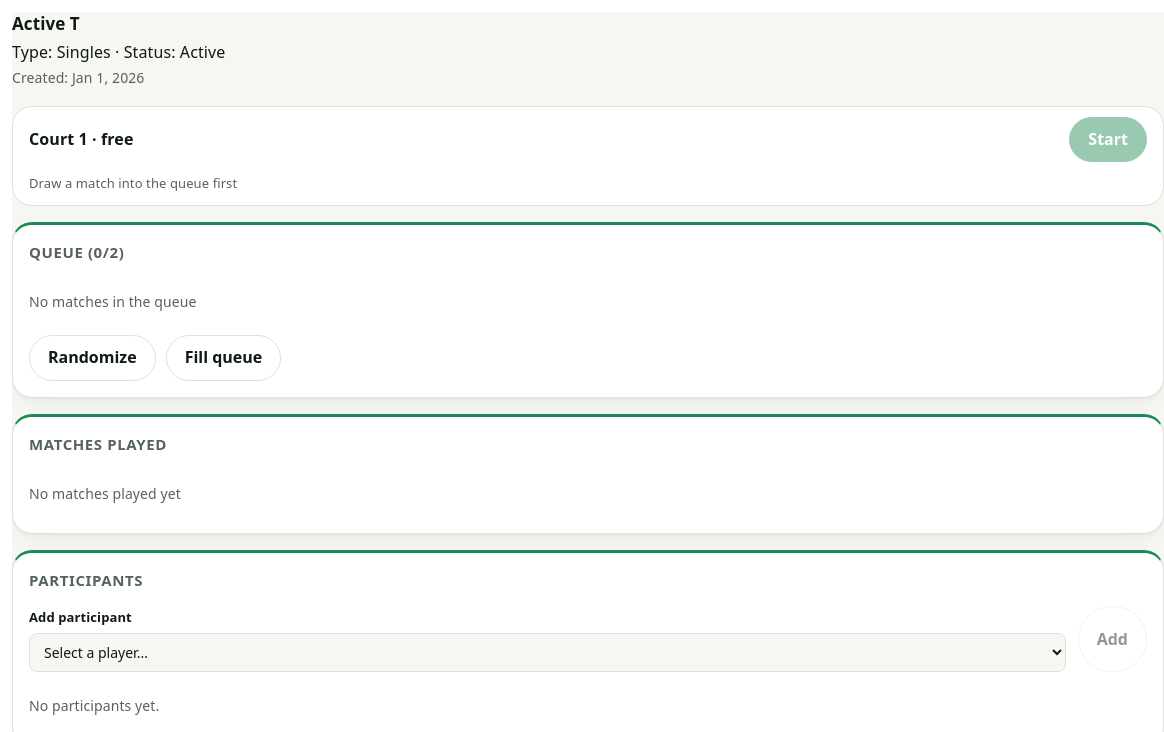
Test: TournamentDetail: Queue (Randomize / Fill queue / Remove) › shows the empty state and Randomize adds exactly one match to the queue without persisting a match
The width and height of the screenshot is (1164, 732).
expect the text "No matches in the queue" is shown: met, box [29,292,196,311]
expect the heading "Queue (0/2)" is shown: met, box [29,242,124,262]
Click the button "Randomize": point(92, 358) [29,335,156,381]
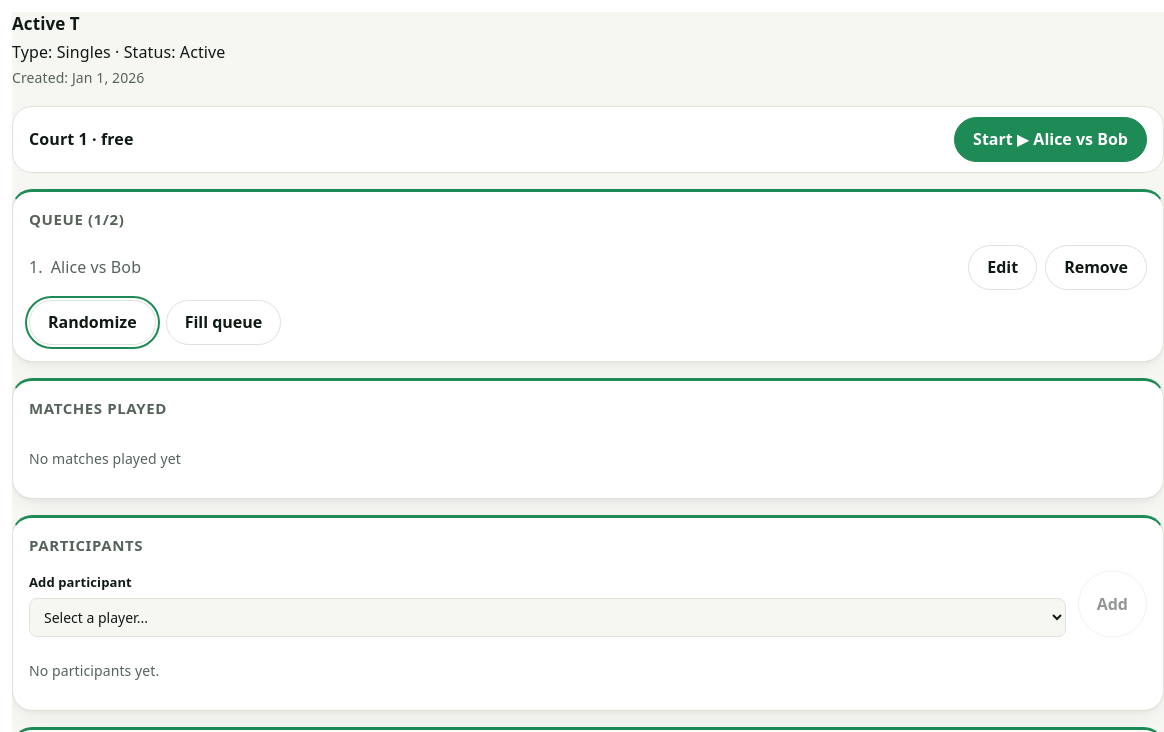
expect the heading "Queue (1/2)" is shown: met, box [29,209,124,229]
expect the text "Alice vs Bob" is shown: met, box [51,256,141,278]
expect the text "No matches in the queue" is gone: met
